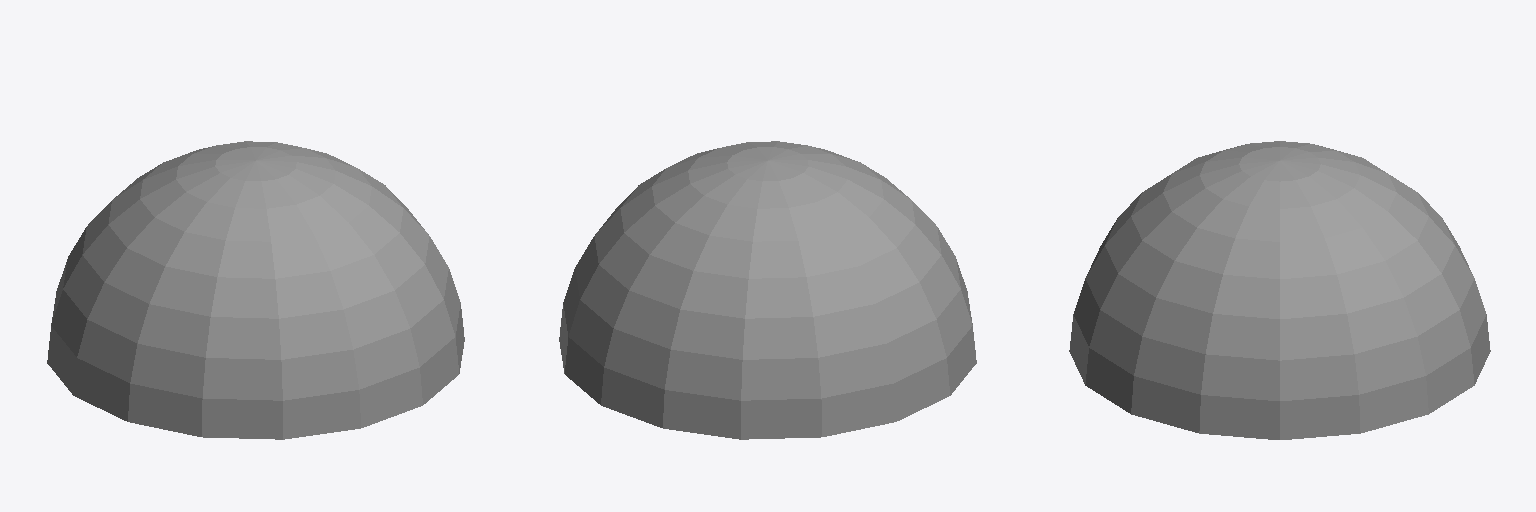
Rendered from skydome.obj.
3 views of the same model, side by side, from view 1: azimuth 30°, elevation 25°; view 2: azimuth 150°, elevation 25°; view 3: azimuth 270°, elevation 25° (orthographic).
Parts seen in each view (by area): view 1: Sphere; view 2: Sphere; view 3: Sphere.
Part boxes in pixels (x1,y1,x2,y2): Sphere: (47,141,464,439); Sphere: (559,141,976,439); Sphere: (1069,141,1490,439).
Size of the model in its own units: 7.98 by 3.99 by 7.98.